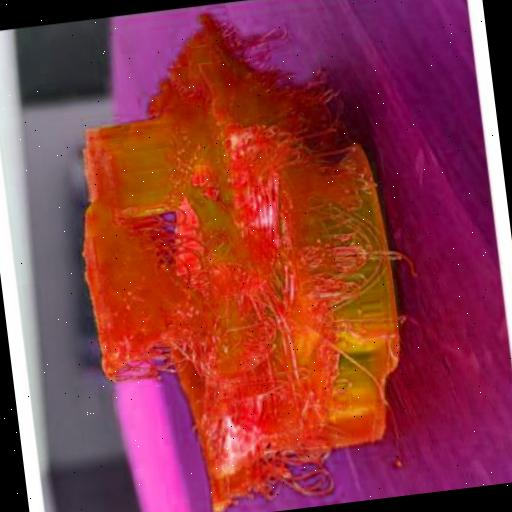spaghetti: (60, 92, 428, 388), (180, 363, 369, 512), (128, 0, 335, 127)
